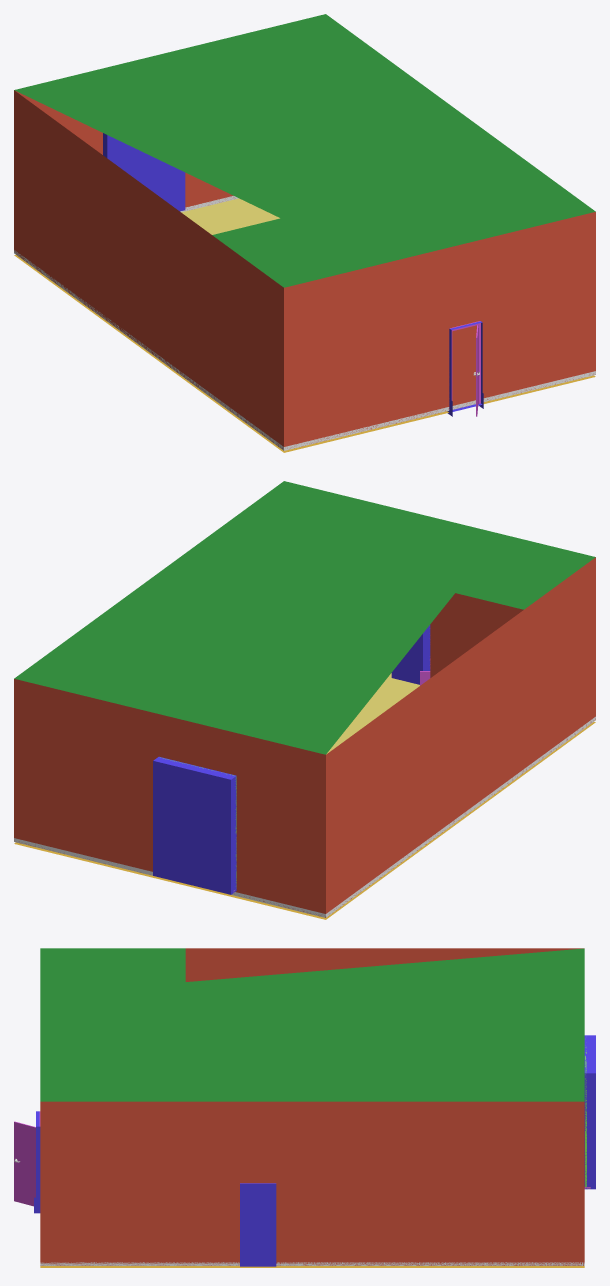
Rendered from room3.glb.
The picture shows the model from 3 angles, top to bottom: view 1: azimuth 30°, elevation 25°; view 2: azimuth 150°, elevation 25°; view 3: azimuth 270°, elevation 25°; orthographic projection.
Visible parts, largest first — view 1: Room.001, Ceiling, Baseboard.001, CTRL_Hole.004, Floor, Plane; view 2: Room.001, Ceiling, CTRL_Hole.004, Baseboard.001, Floor, Plane, CTRL_Hole; view 3: Room.001, Ceiling, CTRL_Hole.001, Baseboard.001, CTRL_Hole.004, Door.003, Plane, CTRL_Hole.
Boxes of the visible parts, x1,y1,x2,y2 form: Room.001: (14, 90, 595, 448); Ceiling: (14, 14, 595, 287); Baseboard.001: (14, 196, 595, 450); CTRL_Hole.004: (103, 133, 185, 211); Floor: (181, 198, 279, 234); Plane: (14, 255, 595, 452); Room.001: (14, 557, 595, 917); Ceiling: (14, 481, 595, 754); CTRL_Hole.004: (153, 756, 236, 894); Baseboard.001: (14, 716, 595, 917); Floor: (326, 673, 419, 754); Plane: (14, 722, 595, 919); CTRL_Hole: (391, 625, 430, 684); Room.001: (40, 948, 584, 1265); Ceiling: (40, 948, 584, 1101); CTRL_Hole.001: (240, 1183, 276, 1266); Baseboard.001: (40, 1262, 584, 1265); CTRL_Hole.004: (584, 1035, 595, 1189); Door.003: (14, 1121, 35, 1206); Plane: (40, 1266, 584, 1267); CTRL_Hole: (36, 1111, 40, 1209).
Size of the model in its own units: 10.09 by 5.12 by 16.04.
